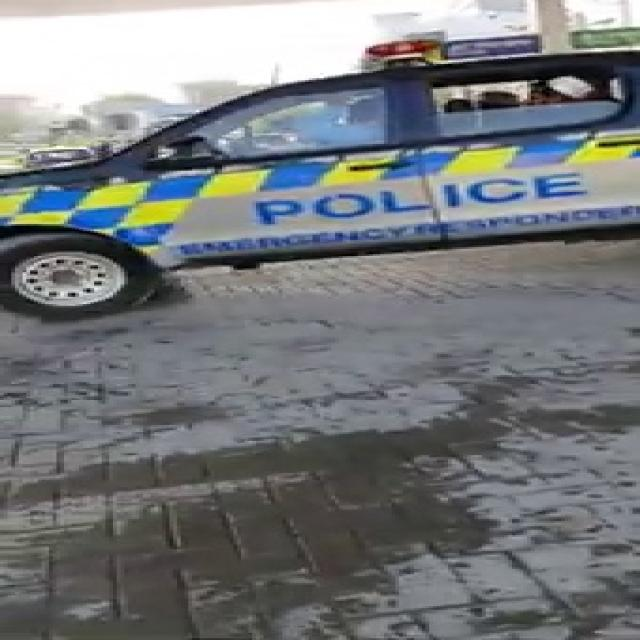police: (0, 15, 625, 332)
